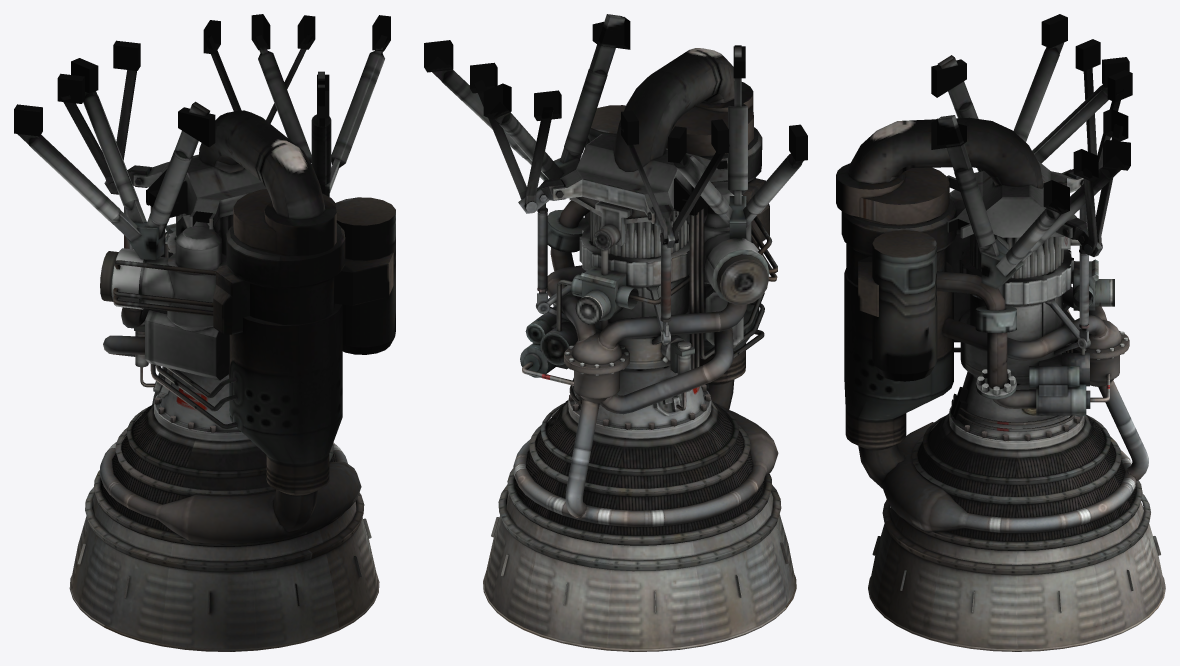
Rendered from rocket_engine.glb.
The picture shows the model from 3 angles, left to right: view 1: azimuth 30°, elevation 25°; view 2: azimuth 150°, elevation 25°; view 3: azimuth 270°, elevation 25°; orthographic projection. The views are drawn at different scales.
Visible parts, largest first — view 1: Rocket_Engine; view 2: Rocket_Engine; view 3: Rocket_Engine.
Part boxes in pixels (<box>): Rocket_Engine: <box>14,14,395,651</box>; Rocket_Engine: <box>424,14,807,651</box>; Rocket_Engine: <box>836,14,1165,651</box>.
Size of the model in its own units: 2.11 by 2.79 by 1.66.
Materials: 1 (1 with a texture image).
